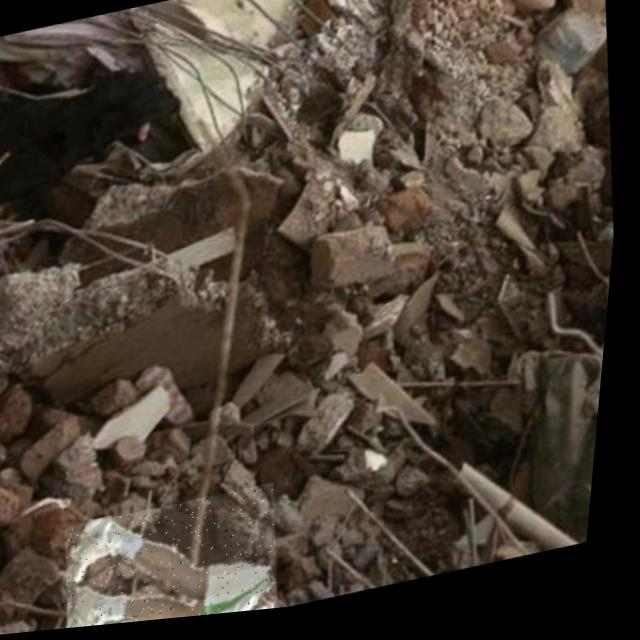Person in Rubble: (66, 488, 297, 632)
